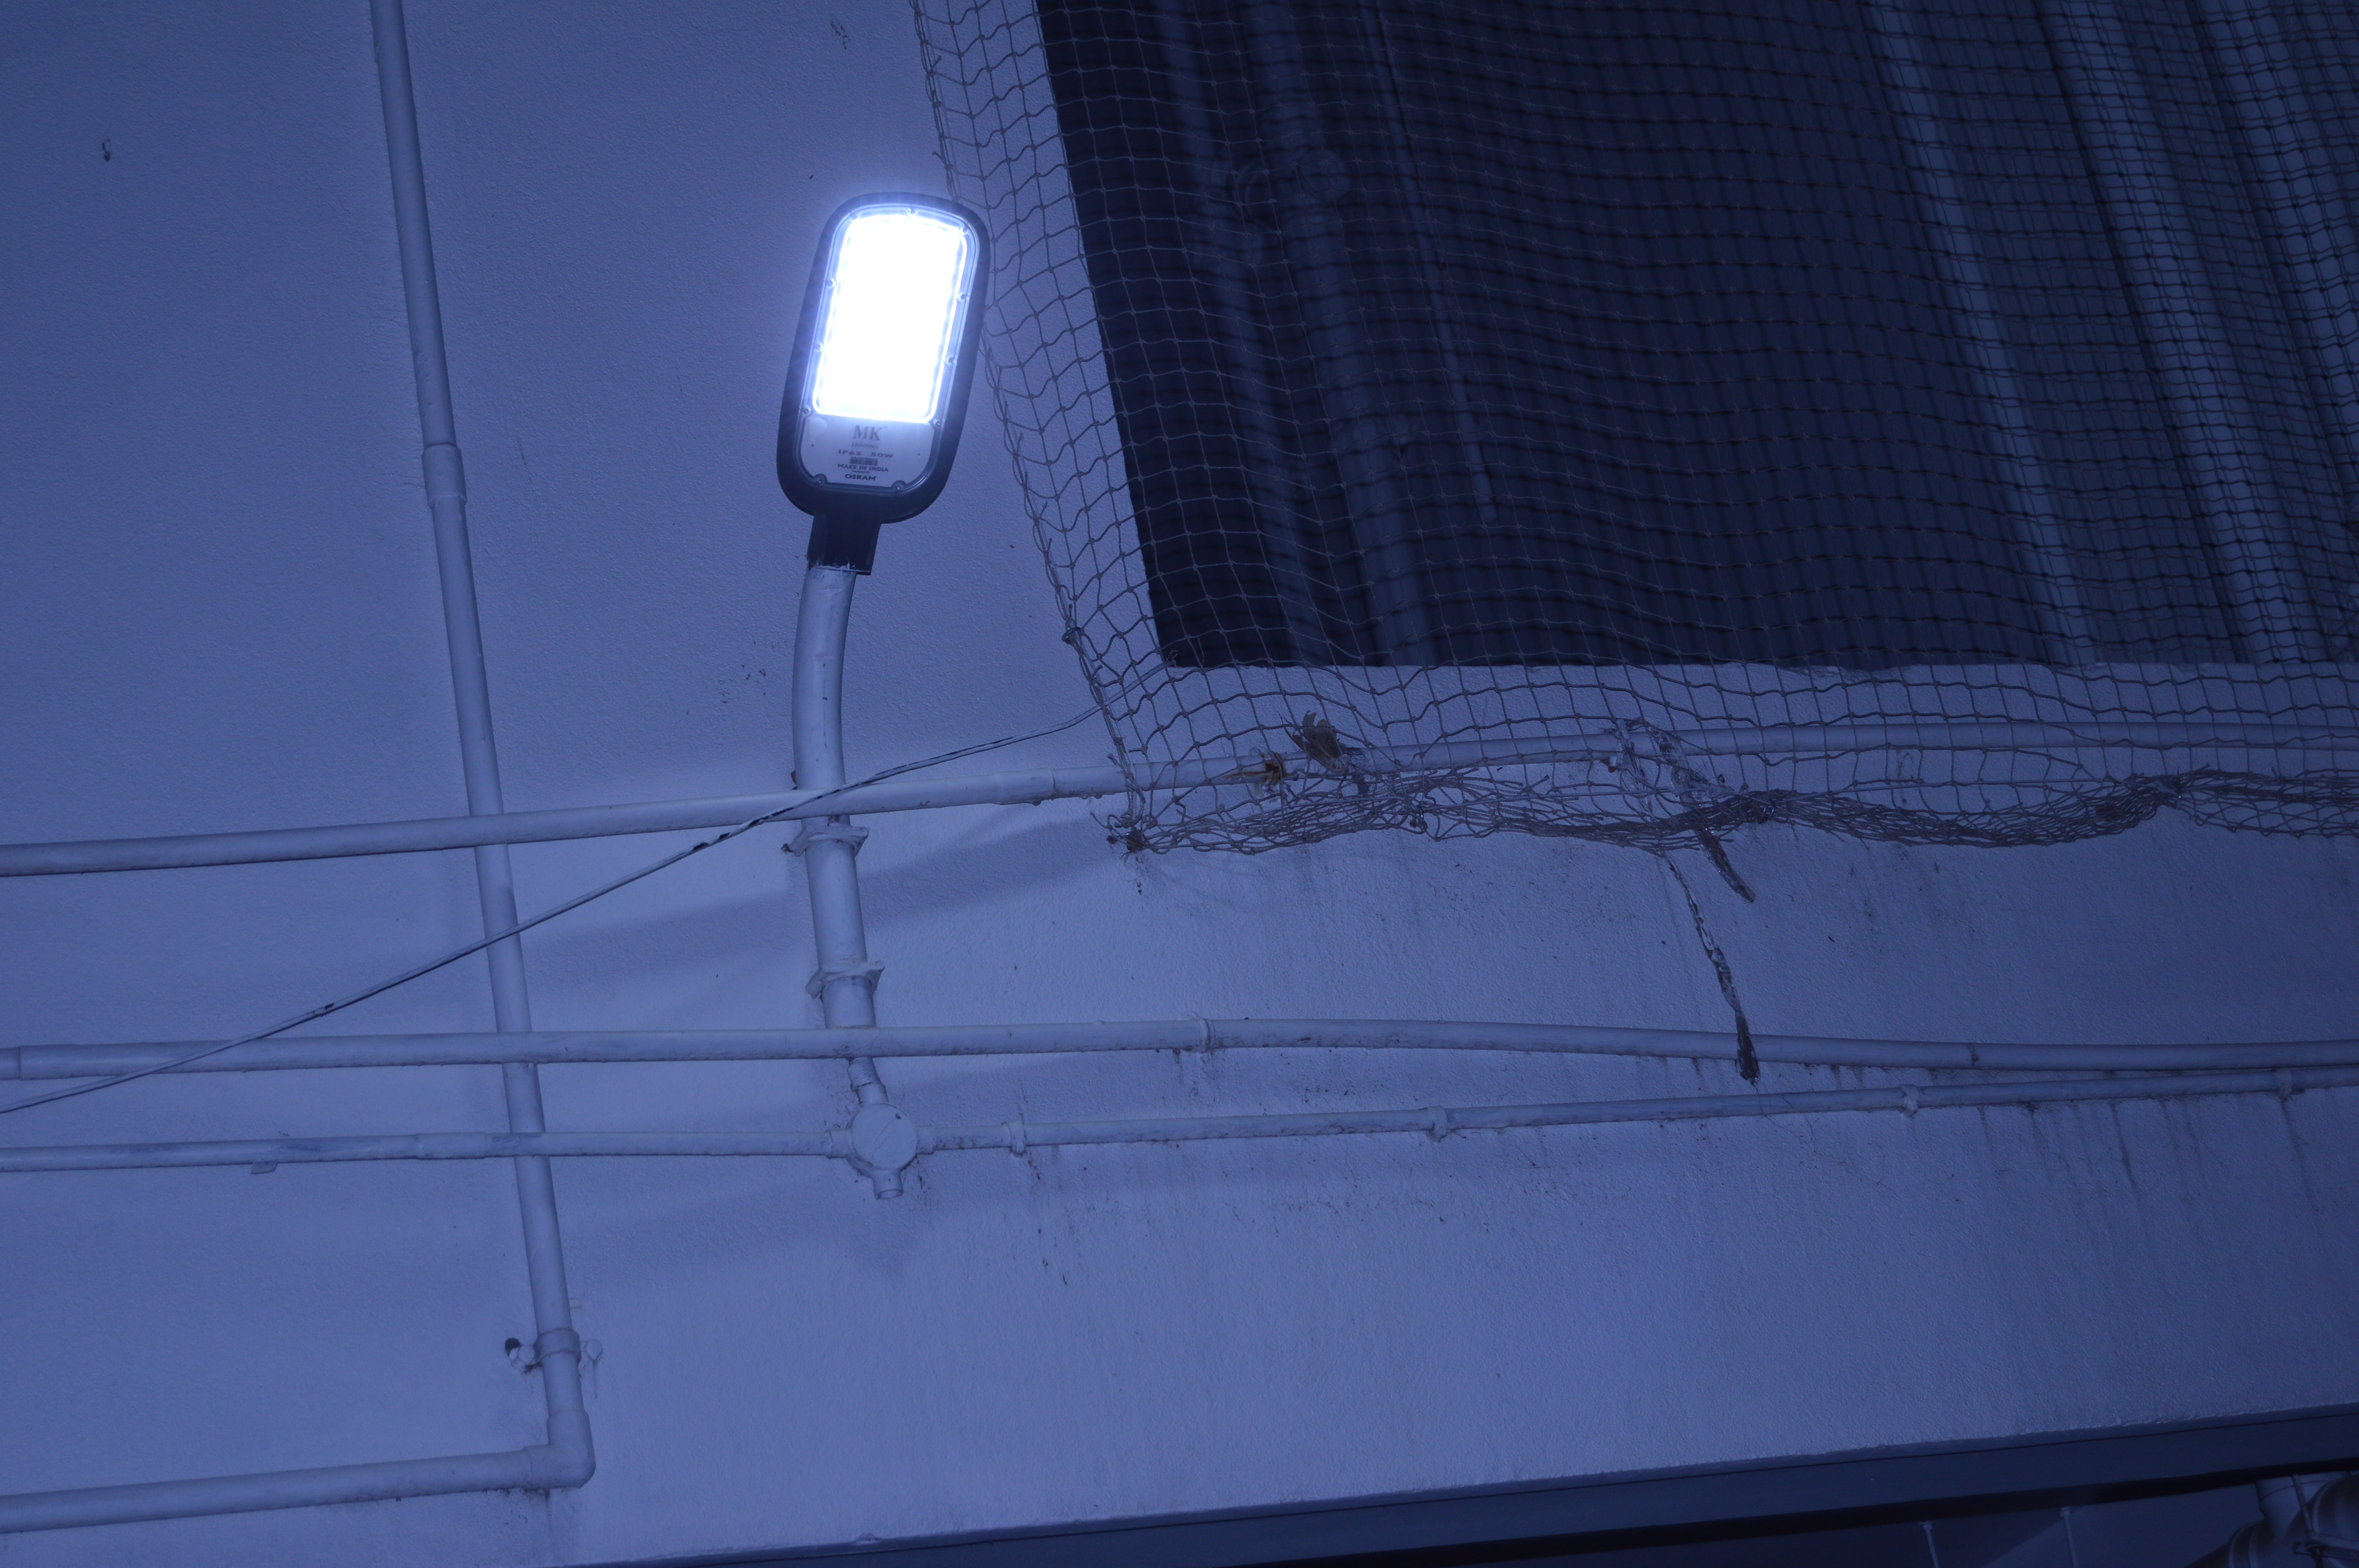Glare: (789, 192, 970, 436)
